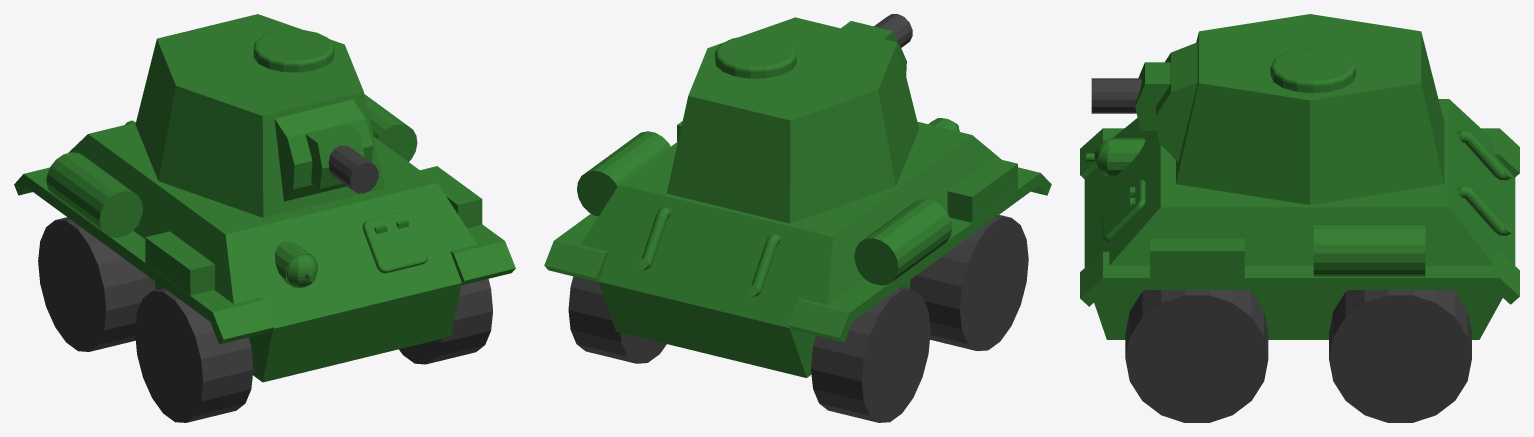
The model's file is t34bool.fbx.
3 renders of one model, left to right at view 1: azimuth 30°, elevation 25°; view 2: azimuth 150°, elevation 25°; view 3: azimuth 270°, elevation 25°, orthographic. The views are drawn at different scales.
Visible parts, largest first — view 1: Cube.002, Cube.003, Cylinder.013, Cylinder.014, Cylinder.010, Cylinder.004; view 2: Cube.002, Cube.003, Cylinder.014, Cylinder.013, Cylinder.011, Cylinder.004; view 3: Cube.002, Cube.003, Cylinder.010, Cylinder.011, Cylinder.004.
Part boxes in pixels (x1,y1,x2,y2): Cube.002: (14,94,515,382); Cube.003: (135,14,384,217); Cylinder.013: (135,288,253,422); Cylinder.014: (38,217,155,351); Cylinder.010: (399,279,492,364); Cylinder.004: (328,145,378,193); Cube.002: (544,118,1051,377); Cube.003: (666,17,918,223); Cylinder.014: (811,286,930,422); Cylinder.013: (910,215,1028,351); Cylinder.011: (568,276,666,363); Cylinder.004: (874,14,912,47); Cube.002: (1080,99,1519,339); Cube.003: (1135,14,1444,204); Cylinder.010: (1125,290,1268,422); Cylinder.011: (1329,290,1471,422); Cylinder.004: (1091,78,1141,113).
Size of the model in its own units: 3.43 by 3.92 by 2.97.
